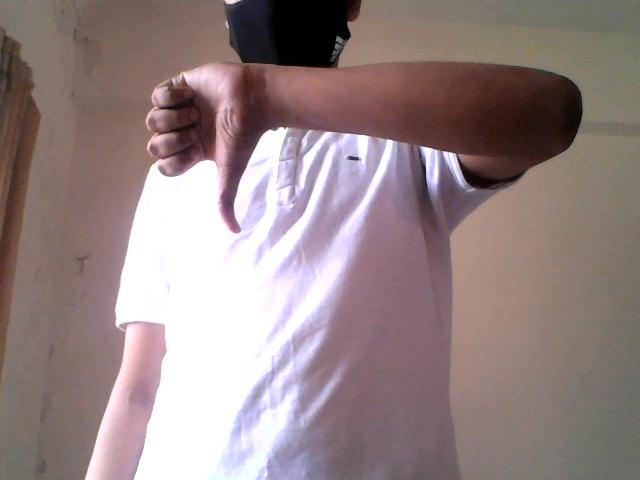thumbs-down: (129, 49, 308, 236)
